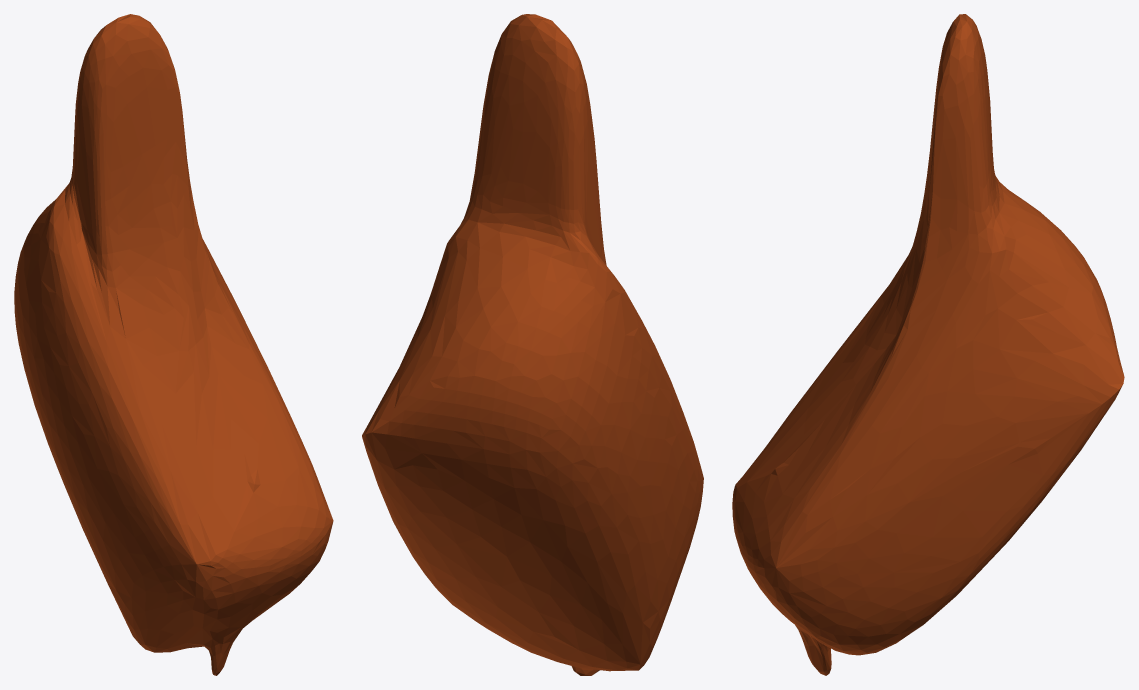
The picture shows the model from 3 angles, left to right: view 1: azimuth 30°, elevation 25°; view 2: azimuth 150°, elevation 25°; view 3: azimuth 270°, elevation 25°; orthographic projection. The views are drawn at different scales.
Visible parts, largest first — view 1: 434_Cube.1763; view 2: 434_Cube.1763; view 3: 434_Cube.1763.
Part boxes in pixels (x1,y1,x2,y2): 434_Cube.1763: (14, 14, 333, 675); 434_Cube.1763: (362, 14, 703, 675); 434_Cube.1763: (732, 14, 1124, 675).
Size of the model in its own units: 6.08 by 17.32 by 9.56.
